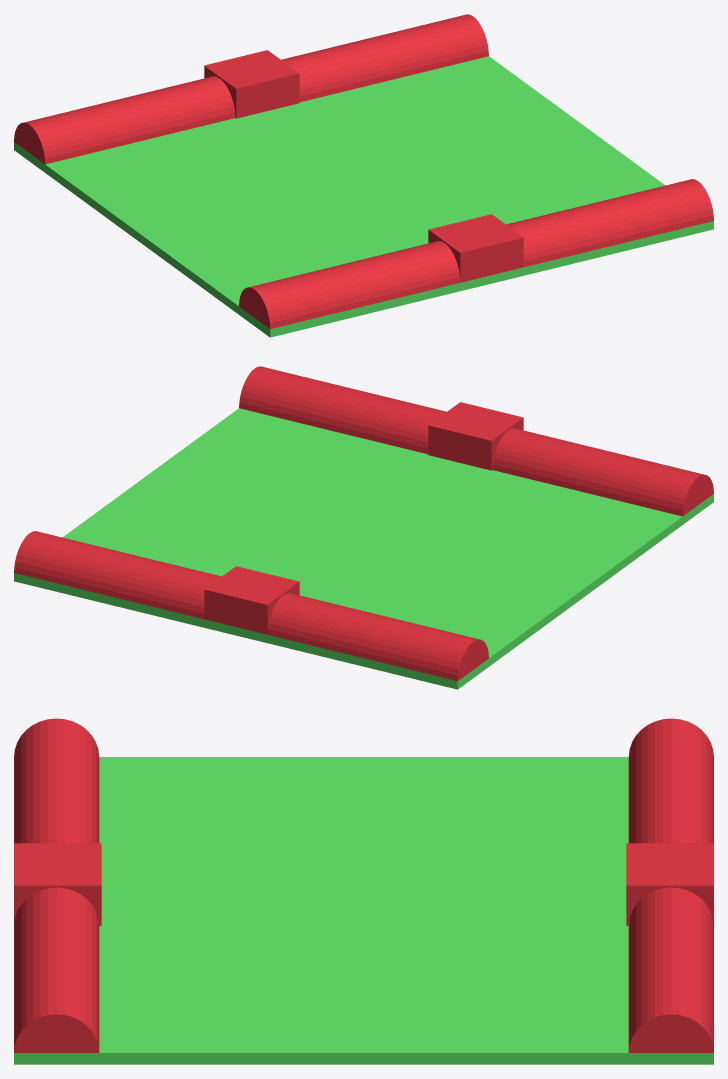
The model's file is way1.fbx.
3 renders of one model, top to bottom at view 1: azimuth 30°, elevation 25°; view 2: azimuth 150°, elevation 25°; view 3: azimuth 270°, elevation 25°, orthographic. The views are drawn at different scales.
Parts seen in each view (by area): view 1: Cube; view 2: Cube; view 3: Cube.
Part boxes in pixels (left/top/right/bottom): Cube: left=14, top=14, right=713, bottom=337; Cube: left=14, top=366, right=713, bottom=689; Cube: left=14, top=718, right=713, bottom=1064.
Bounding box in the file's own units: 912 × 75.09 × 912.
